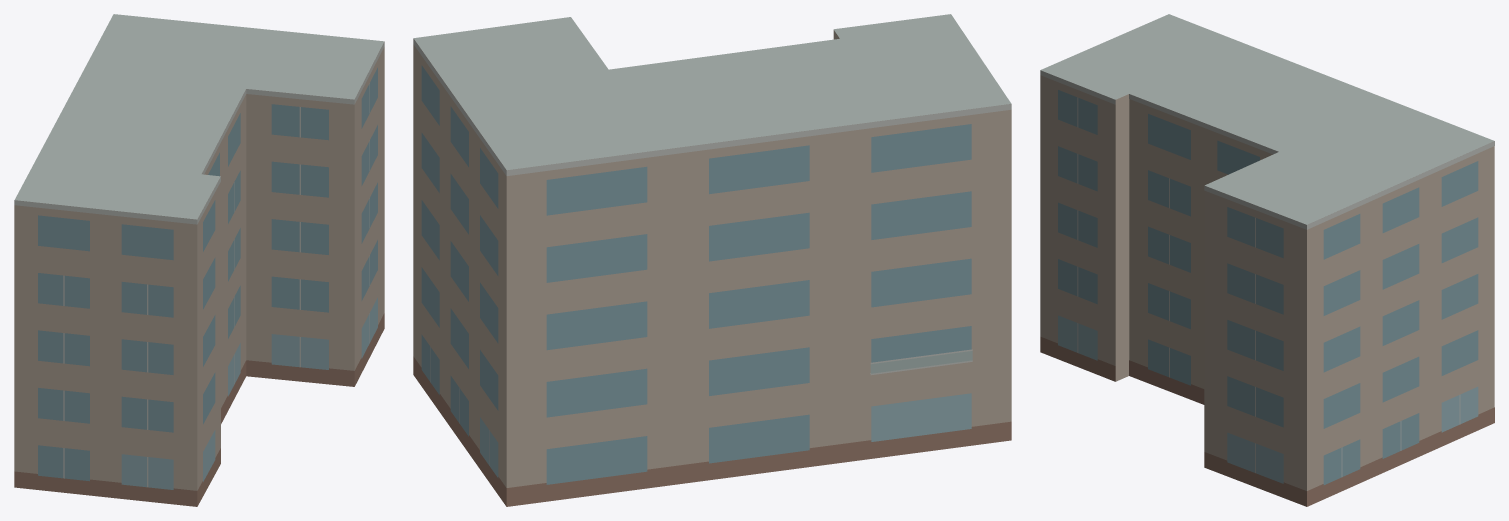
Rendered from survey-upis-32516998.glb.
3 renders of one model, left to right at view 1: azimuth 30°, elevation 25°; view 2: azimuth 150°, elevation 25°; view 3: azimuth 270°, elevation 25°, orthographic. The views are drawn at different scales.
Visible parts, largest first — view 1: survey-upis-32516998.tmp; view 2: survey-upis-32516998.tmp; view 3: survey-upis-32516998.tmp.
Boxes of the visible parts, left/top/right/bottom form: survey-upis-32516998.tmp: left=14, top=14, right=384, bottom=506; survey-upis-32516998.tmp: left=413, top=14, right=1011, bottom=506; survey-upis-32516998.tmp: left=1040, top=14, right=1494, bottom=506.
Bounding box in the file's own units: 22.22 × 13.85 × 20.24.
